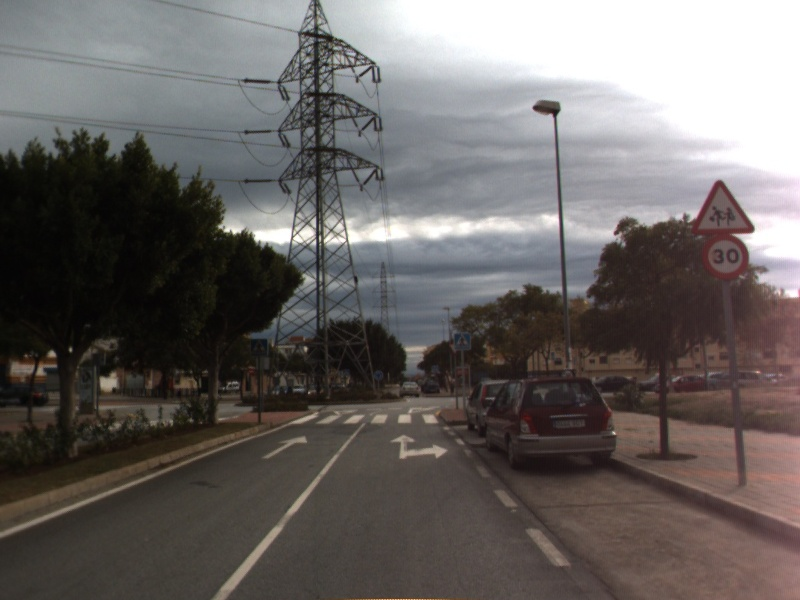STRAIGHT: (259, 434, 309, 461)
STRAIGHT_RIGHT: (388, 432, 450, 460)
